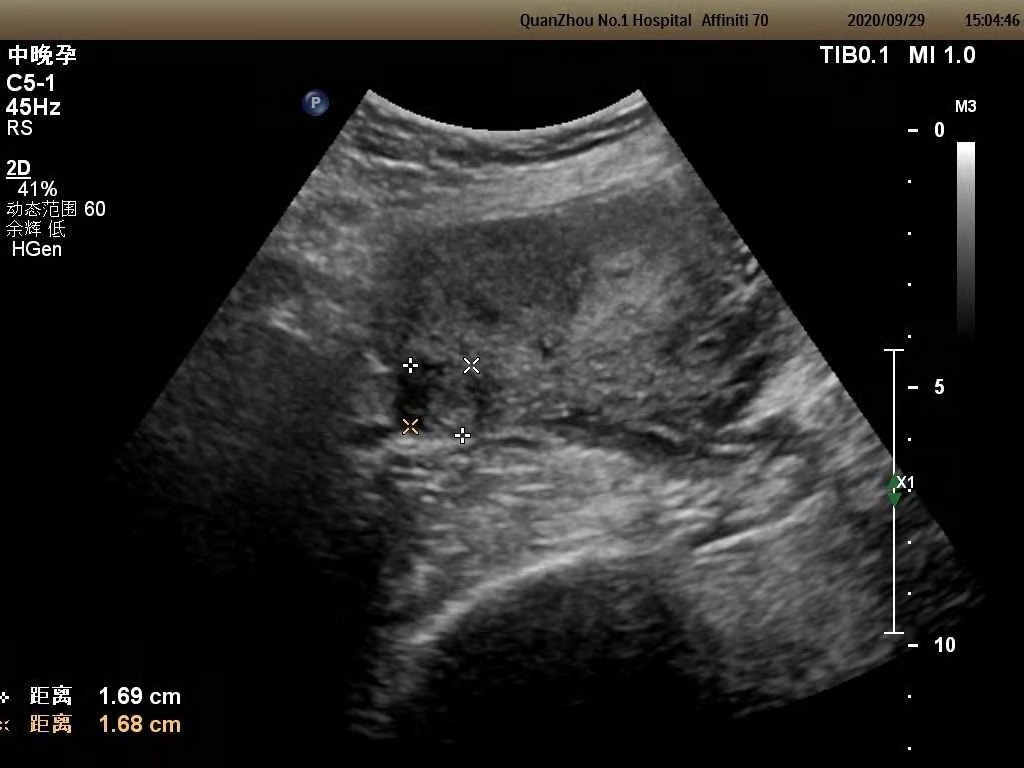肌瘤: (396, 358, 477, 438)
